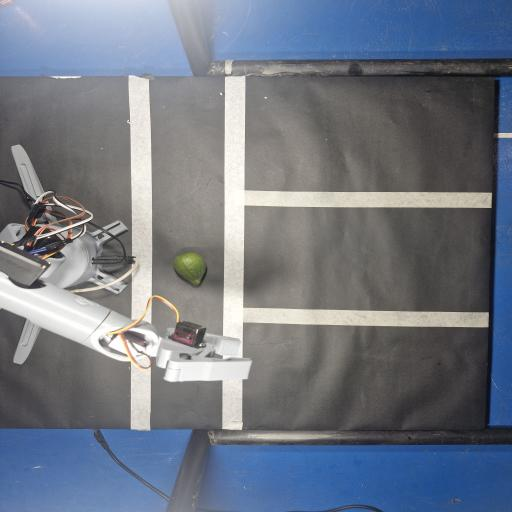higo: (173, 252, 206, 284)
